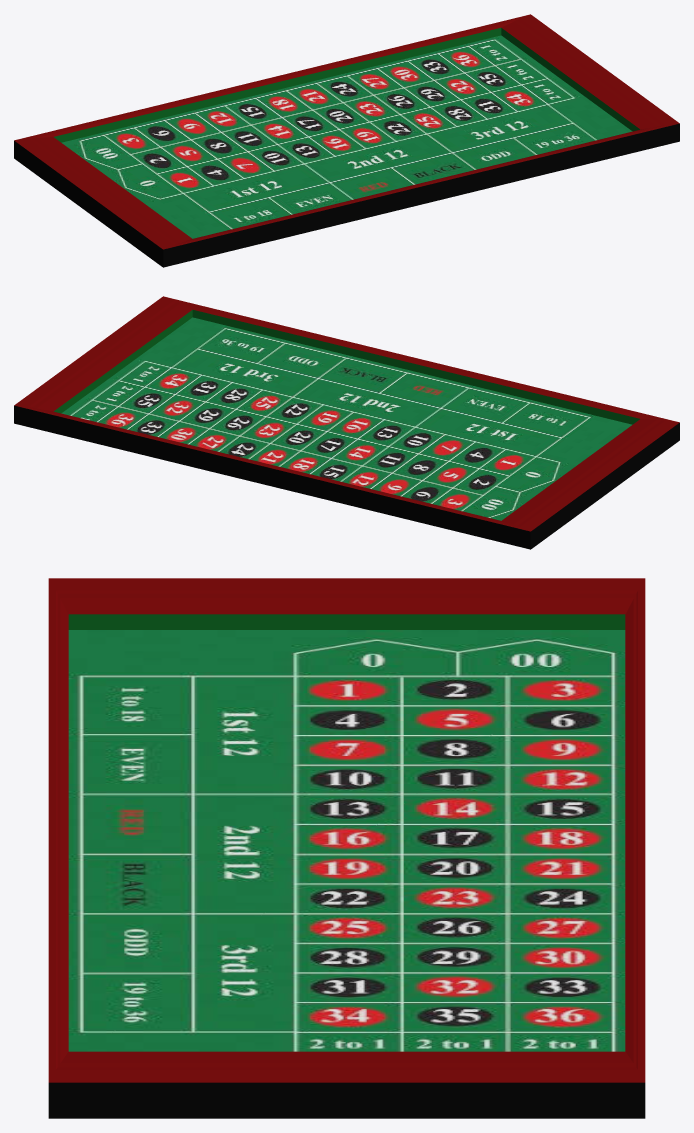
Rendered from Fucckass table the Third finalplsplsdihateblenderfklop.glb.
The picture shows the model from 3 angles, top to bottom: view 1: azimuth 30°, elevation 25°; view 2: azimuth 150°, elevation 25°; view 3: azimuth 270°, elevation 25°; orthographic projection. The views are drawn at different scales.
Visible parts, largest first — view 1: Cube; view 2: Cube; view 3: Cube.
Part boxes in pixels (<box>): Cube: <box>14,14,679,267</box>; Cube: <box>14,296,679,549</box>; Cube: <box>48,578,645,1118</box>.
Bounding box in the file's own units: 6 × 0.2024 × 3.
4 materials, 1 textured.
